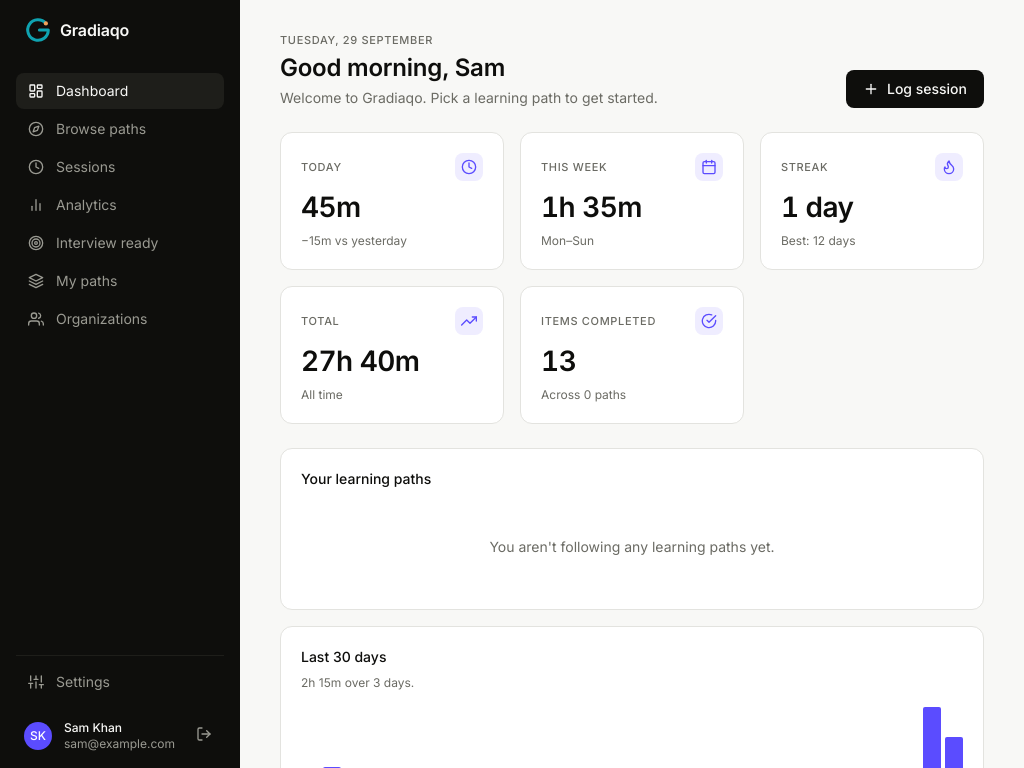
Test: DashboardPage › shows who is logged in, and logs out to the homepage
Expected: the text "Sam Khan" is shown, [64,720,122,735]
Expected: the text "SK" is shown, [24,722,52,750]
Click the button named "Log out" at (204, 736), box [192,722,216,750]
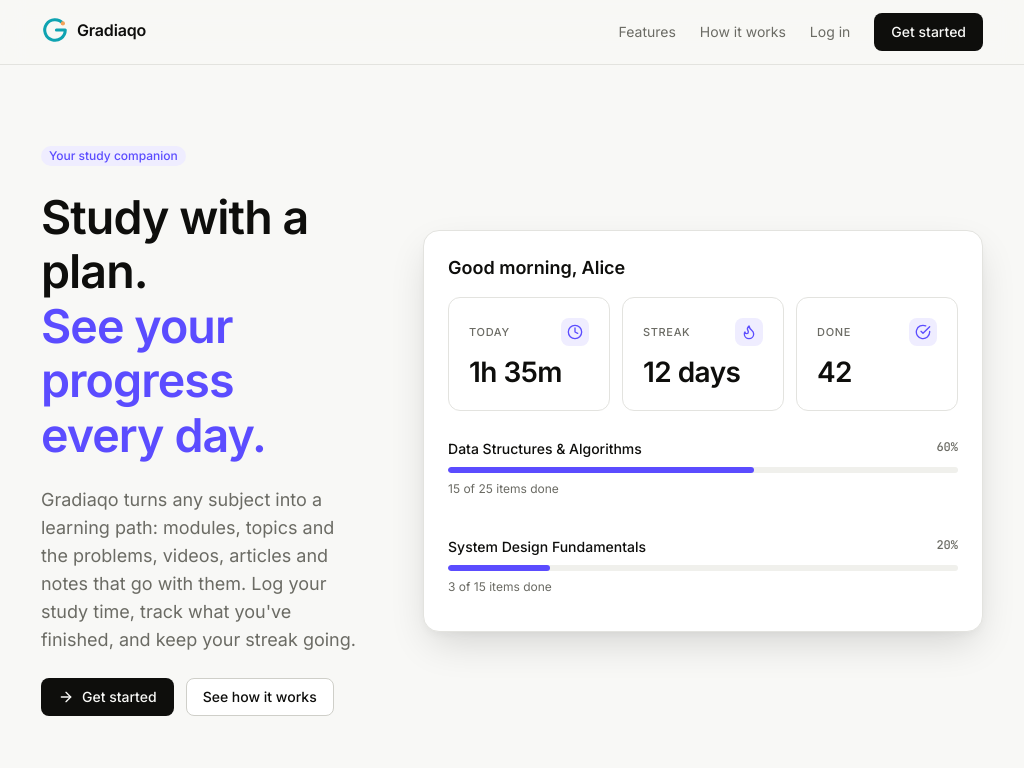
Now the heading shows "Study with a plan.", box [41,189,308,300]
